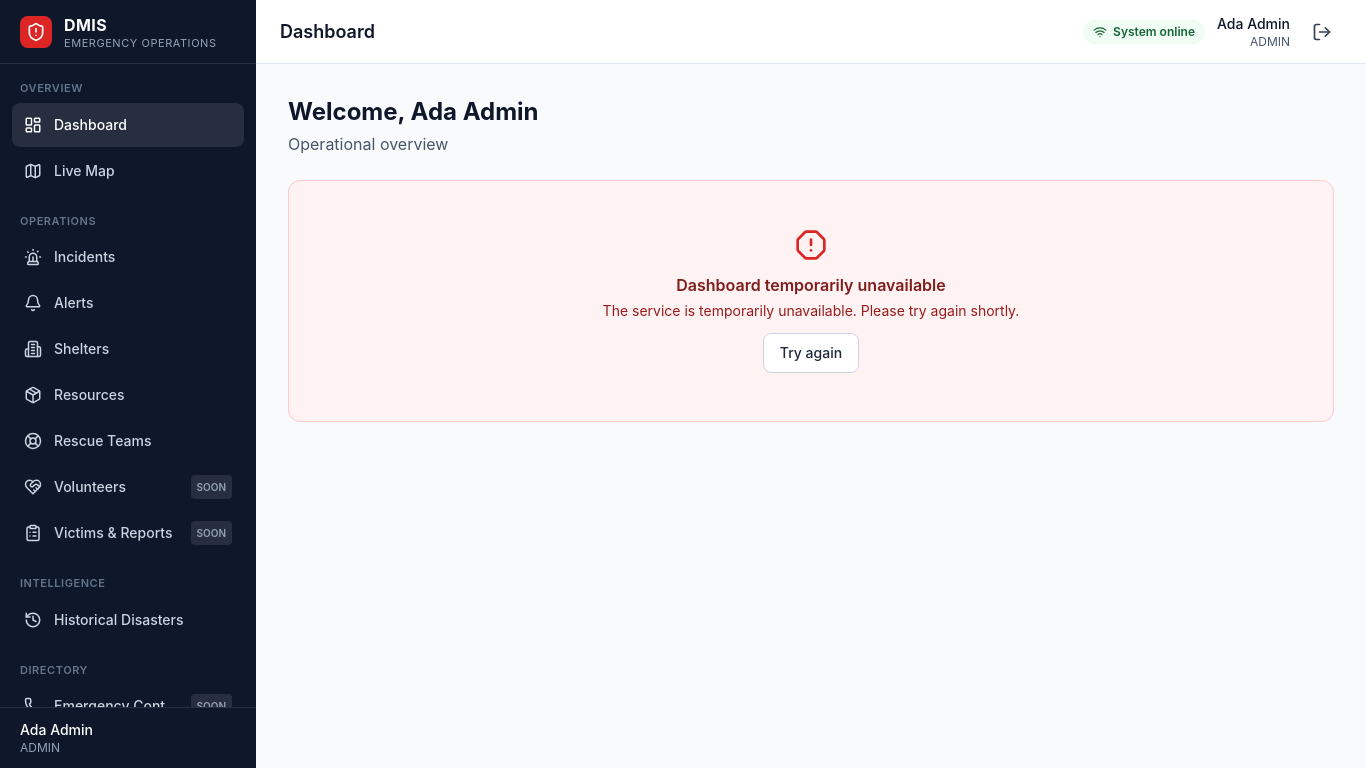
Scenario: DashboardPage › a dashboard-summary failure shows a retry, and retry recovers
expect the heading "Dashboard temporarily unavailable" is shown: met, box [676,275,946,295]
Click the button "Try again" at (811, 353), box [763,333,859,373]
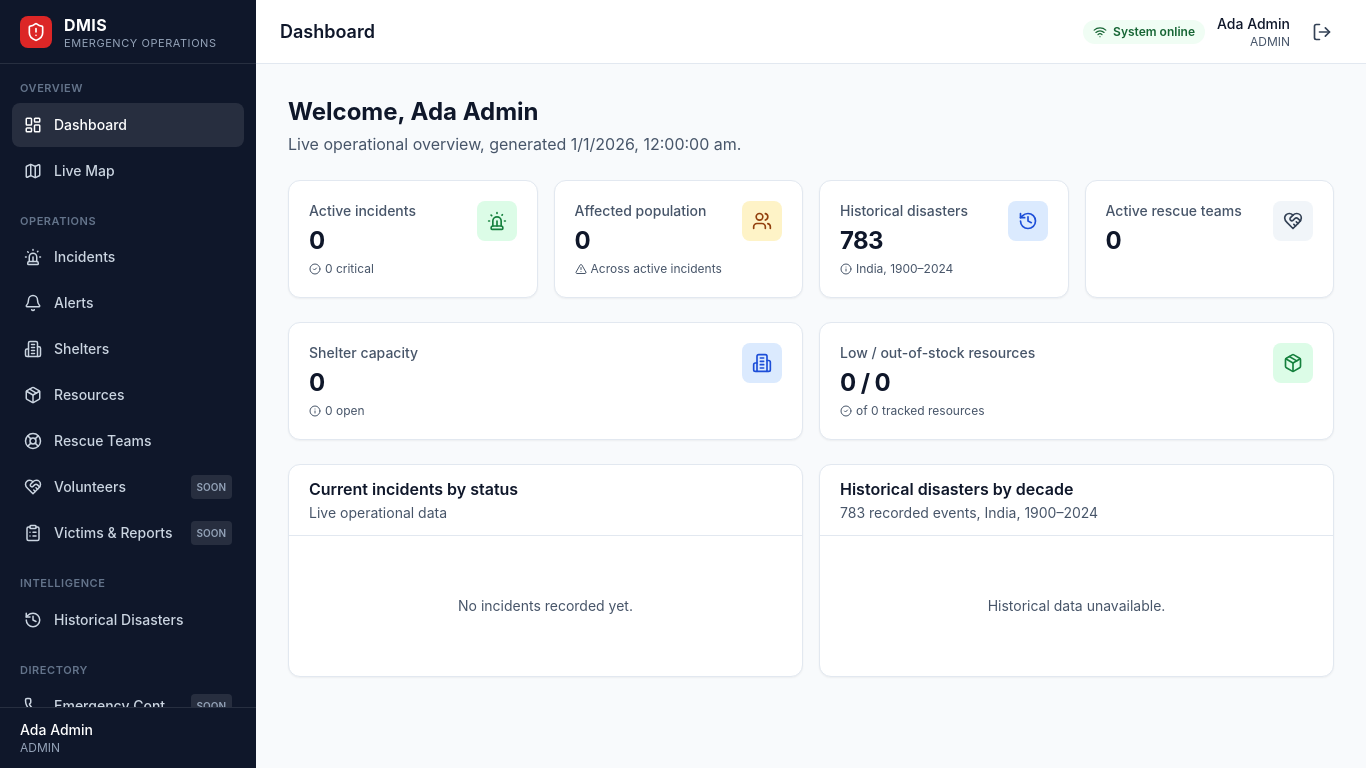
expect the text "783" is shown: met, box [840,226,883,255]
